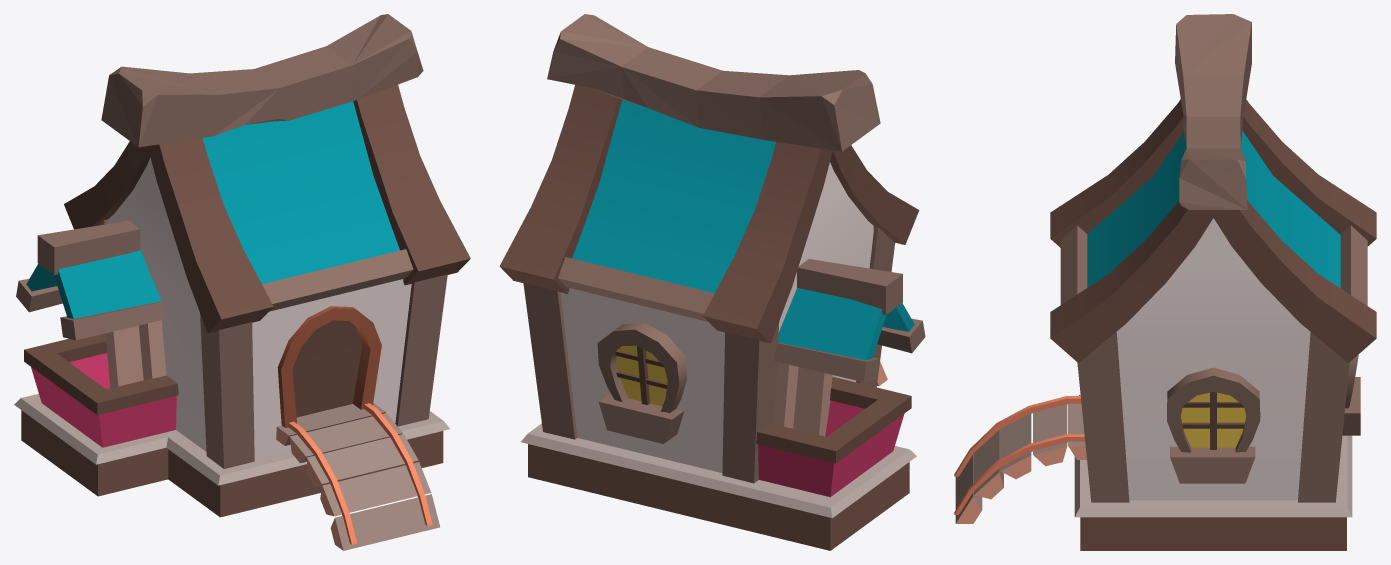
File: house_015.fbx
3 views of the same model, side by side, from view 1: azimuth 30°, elevation 25°; view 2: azimuth 150°, elevation 25°; view 3: azimuth 270°, elevation 25° (orthographic). The views are drawn at different scales.
Visible parts, largest first — view 1: house_015; view 2: house_015; view 3: house_015.
Part boxes in pixels (x1=…): house_015: x1=14, y1=14, x2=470, y2=550; house_015: x1=499, y1=14, x2=925, y2=550; house_015: x1=954, y1=14, x2=1376, y2=550.
Size of the model in its own units: 463 by 479 by 520.
2 materials, 2 textured.
